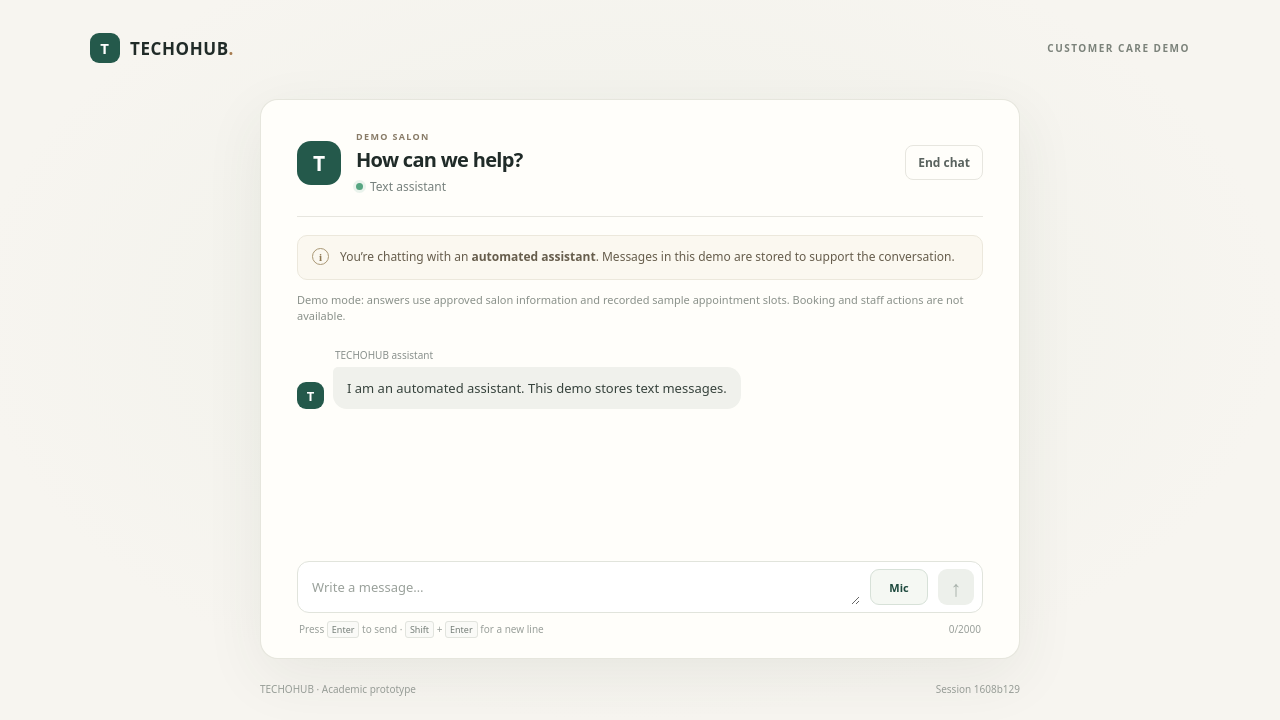
Test case: browser text chat › starts browser recognition and requests microphone permission
Expected: the text "I am an automated assistant. This demo stores text messages." is shown, [333,367,741,409]
Expected: the text box named "Your message" is shown, [312,571,860,605]
Click the button with aria-label "Start voice input" at (899, 587), box [870,569,928,605]
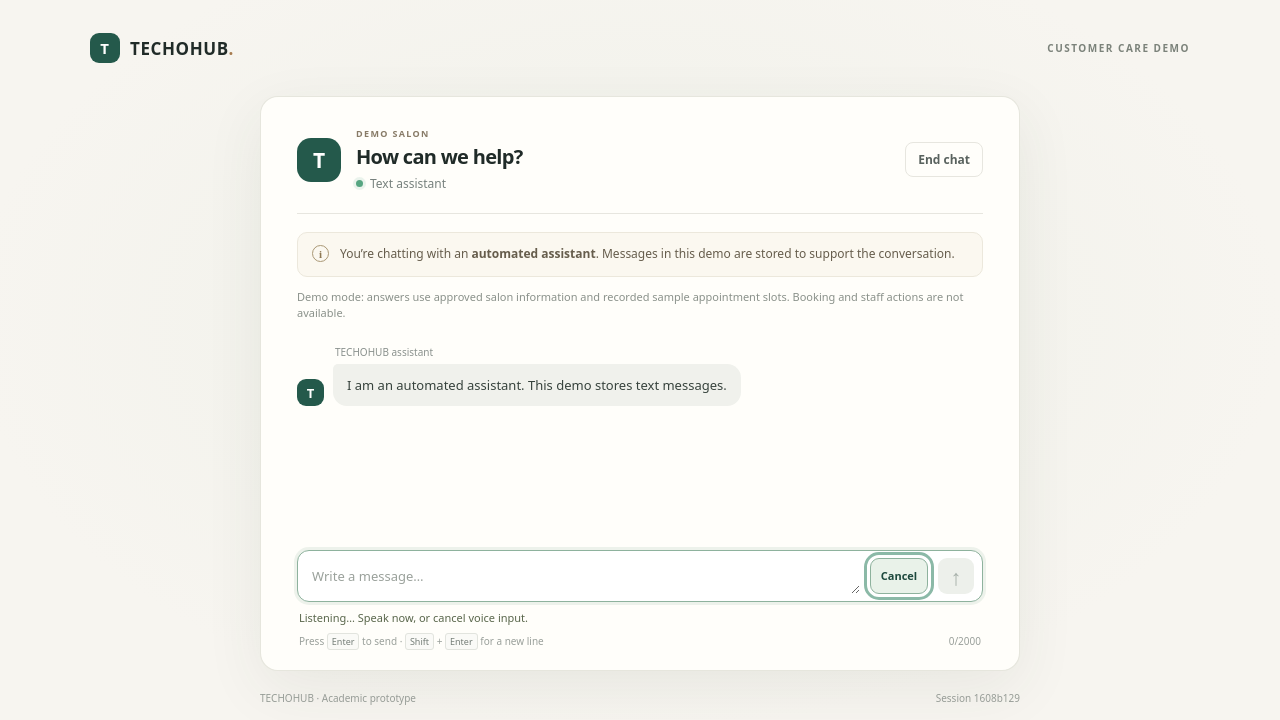
Result: the message shows "Listening" at [299,610,528,625]
